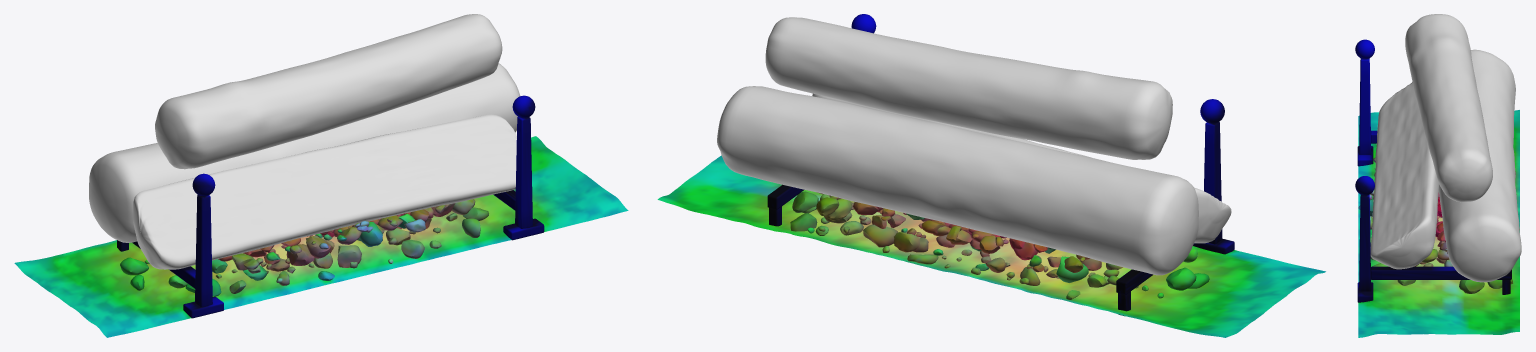
File: hearth.glb
3 views of the same model, side by side, from view 1: azimuth 30°, elevation 25°; view 2: azimuth 150°, elevation 25°; view 3: azimuth 270°, elevation 25° (orthographic). The views are drawn at different scales.
Parts seen in each view (by area): view 1: log_front, log_top, ash, log_back, coals, iron; view 2: log_back, log_top, ash, coals, iron, log_front; view 3: log_top, log_back, log_front, ash, iron, coals.
Boxes of the visible parts, left/top/right/bottom form: log_front: left=133, top=114, right=516, bottom=269; log_top: left=155, top=14, right=502, bottom=169; ash: left=14, top=136, right=628, bottom=337; log_back: left=89, top=63, right=520, bottom=242; coals: left=120, top=199, right=488, bottom=296; iron: left=117, top=95, right=544, bottom=318; log_back: left=717, top=86, right=1198, bottom=275; log_top: left=765, top=17, right=1172, bottom=159; ash: left=657, top=155, right=1325, bottom=337; coals: left=790, top=191, right=1209, bottom=299; iron: left=767, top=14, right=1234, bottom=316; log_front: left=812, top=93, right=1231, bottom=243; log_top: left=1405, top=14, right=1492, bottom=202; log_back: left=1438, top=49, right=1521, bottom=282; log_front: left=1370, top=82, right=1438, bottom=269; ash: left=1358, top=110, right=1519, bottom=337; iron: left=1355, top=39, right=1511, bottom=302; coals: left=1358, top=157, right=1519, bottom=293.
Bounding box in the file's own units: 0.766 × 0.2492 × 0.2429.
